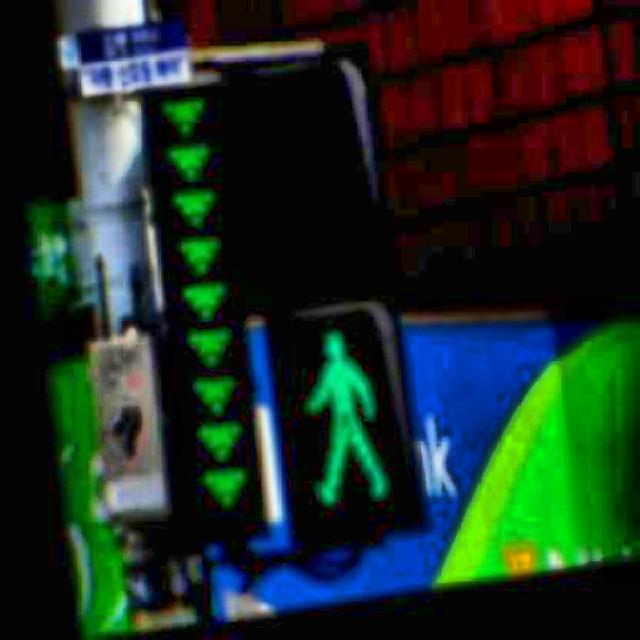semaforo pedestre: (148, 14, 455, 581)
